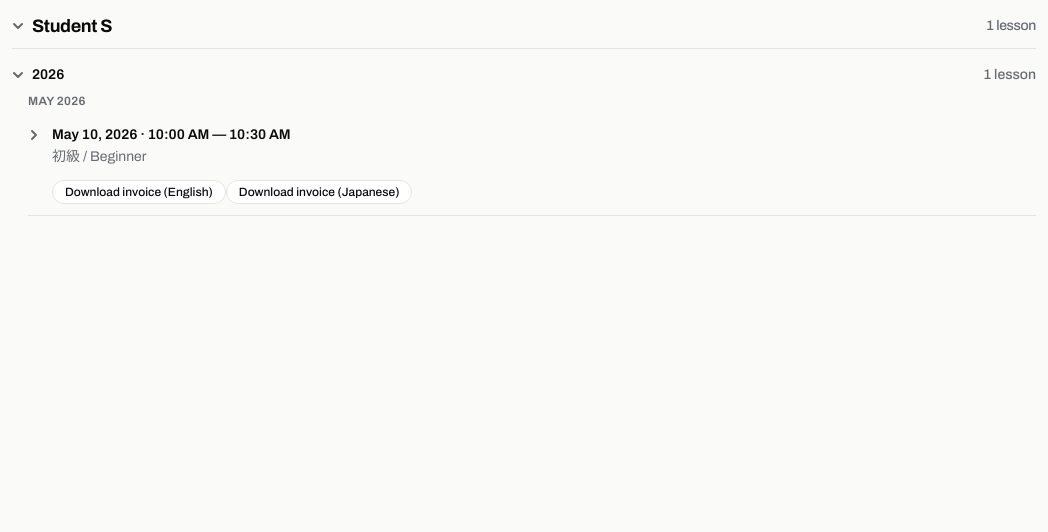
it: TeacherCompletedLessonsClient › expanding a lesson opens its panel
What coordinates should you click on to do the following:
click the button "May 10, 2026 · 10:00 AM — 10:30 AM 初級 / Beginner"
I would click on:
 (171, 134)
Its box is [28,113,1036,179].
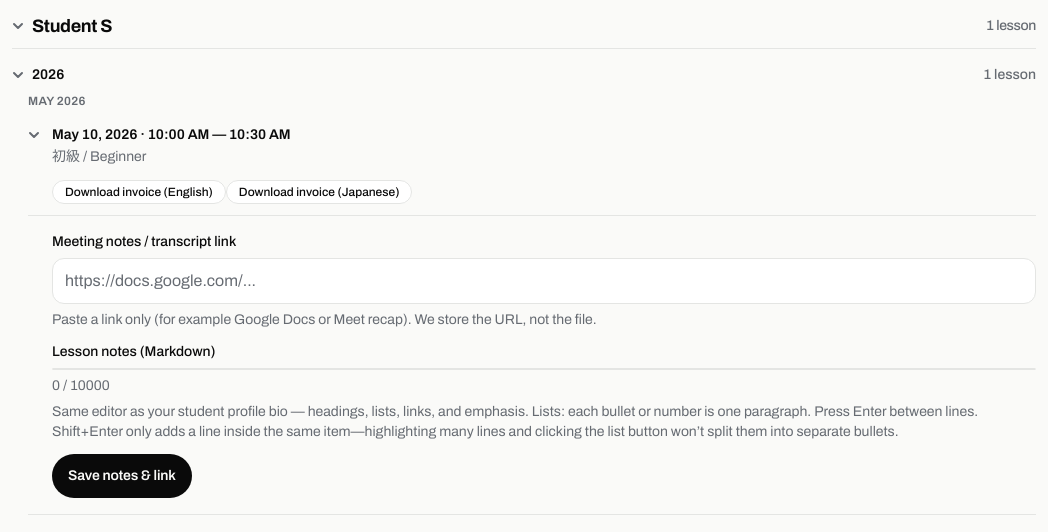
Now the button "May 10, 2026 · 10:00 AM — 10:30 AM 初級 / Beginner" is expanded, box [28,113,1036,179]
